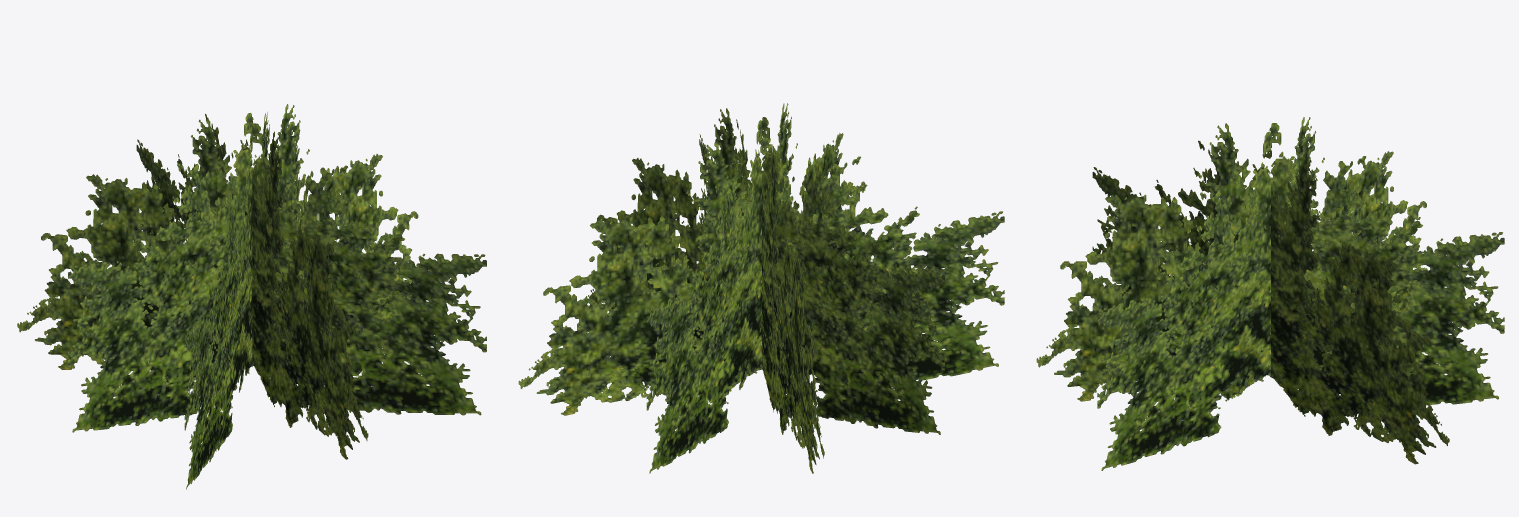
Rendered from bushStandard.fbx.
3 renders of one model, left to right at view 1: azimuth 30°, elevation 25°; view 2: azimuth 150°, elevation 25°; view 3: azimuth 270°, elevation 25°, orthographic.
Parts seen in each view (by area): view 1: bush; view 2: bush; view 3: bush.
Boxes of the visible parts, <box> form: bush: <box>17,104,486,489</box>; bush: <box>518,103,1004,473</box>; bush: <box>1036,117,1504,470</box>.
Bounding box in the file's own units: 47.64 × 51.85 × 37.16.
Materials: 1 (1 with a texture image).
